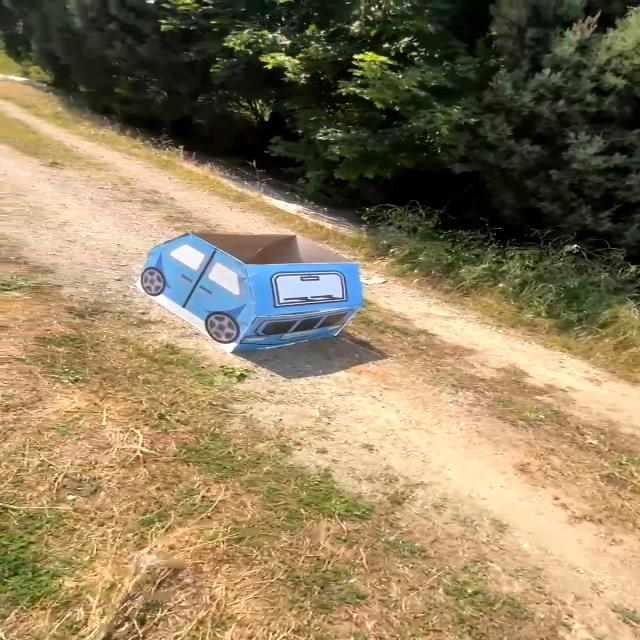blue_car: (114, 215, 375, 356)
